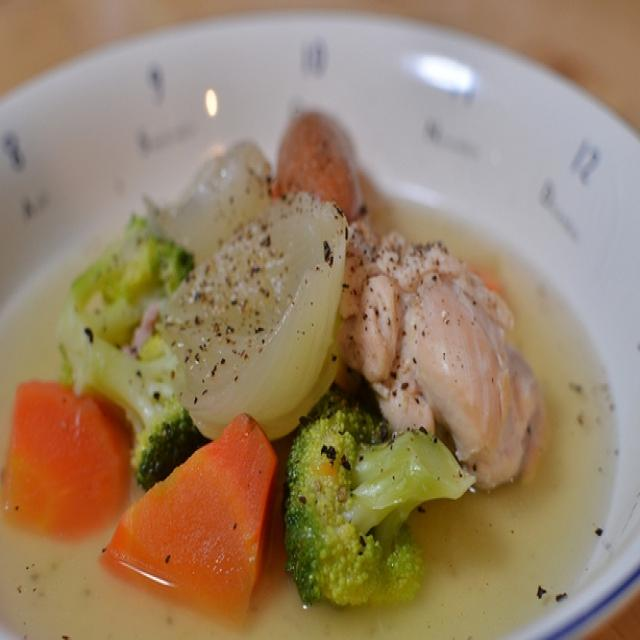汤锅炖物: (7, 8, 636, 630)
